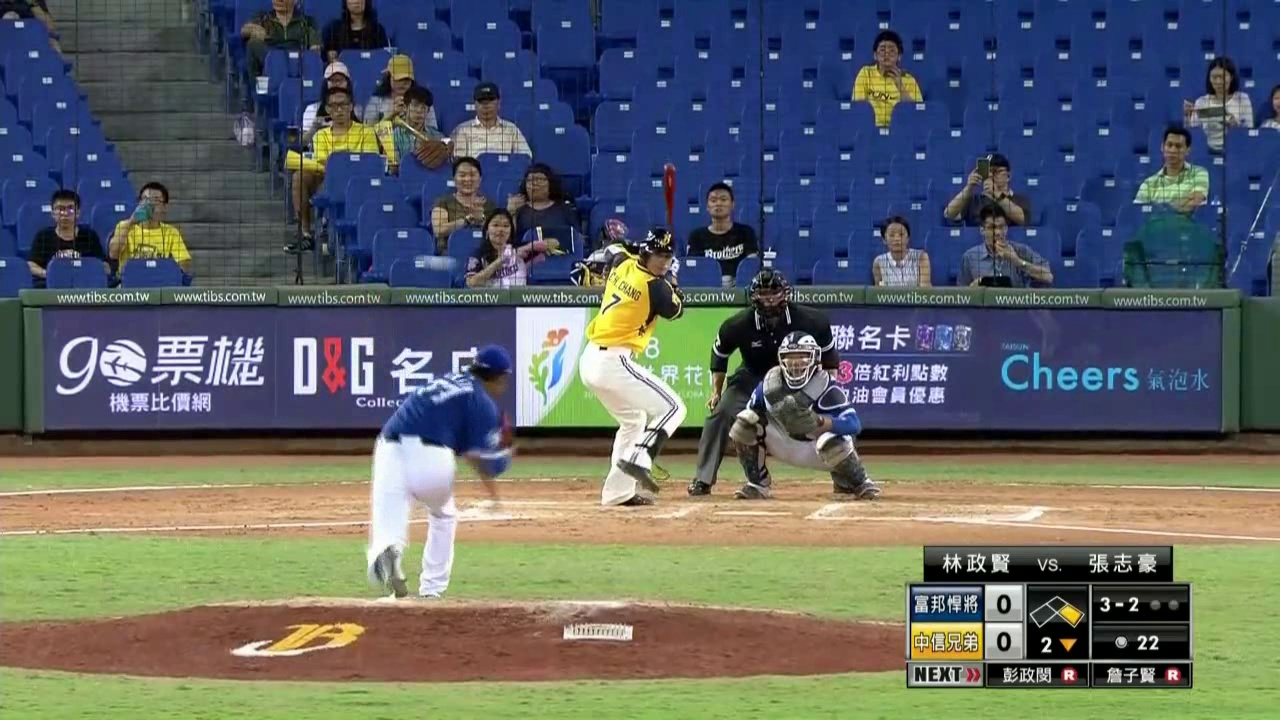ball: (426, 253, 445, 273)
base: (1029, 591, 1086, 628)
bat: (659, 158, 679, 262)
out: (1146, 588, 1186, 619)
score1: (987, 588, 1020, 620)
score2: (986, 627, 1019, 655)
session: (1026, 629, 1086, 658)
strikeball: (1091, 588, 1143, 622)
total: (1096, 627, 1186, 654)
